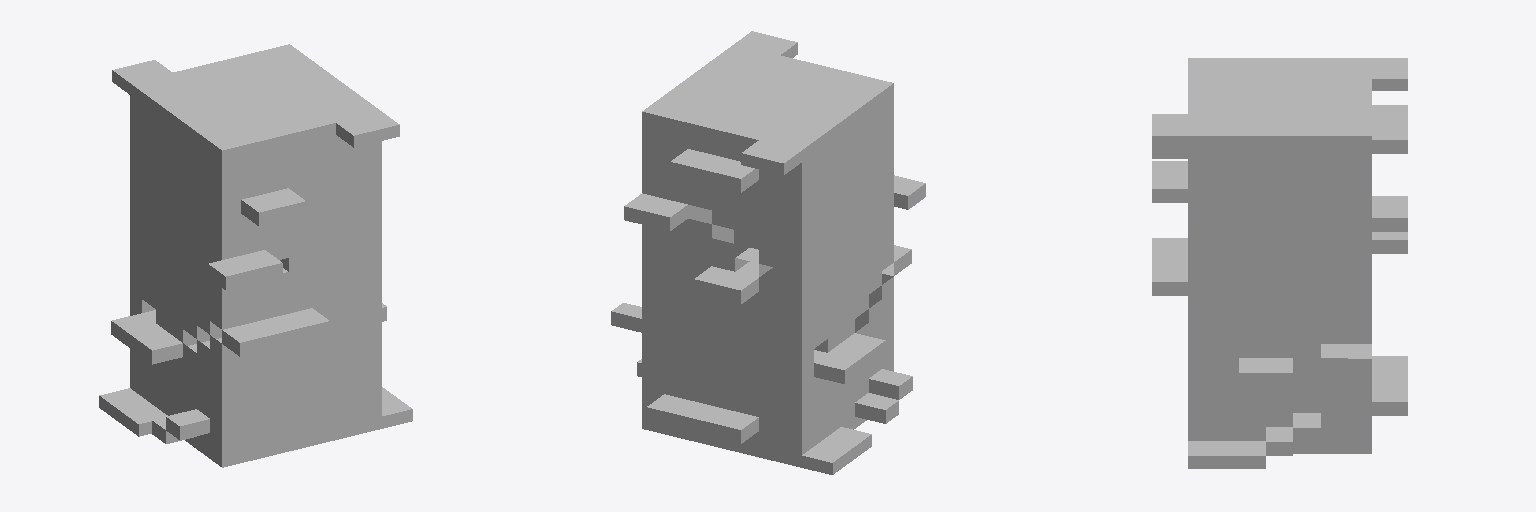
Rendered from block out base lvl.obj.
3 renders of one model, left to right at view 1: azimuth 30°, elevation 25°; view 2: azimuth 150°, elevation 25°; view 3: azimuth 270°, elevation 25°, orthographic.
Parts seen in each view (by area): view 1: Level; view 2: Level; view 3: Level.
Boxes of the visible parts, x1,y1,x2,y2 form: Level: [99, 44, 412, 467]; Level: [611, 31, 925, 474]; Level: [1152, 58, 1407, 468].
Bounding box in the file's own units: 194 × 266 × 194.